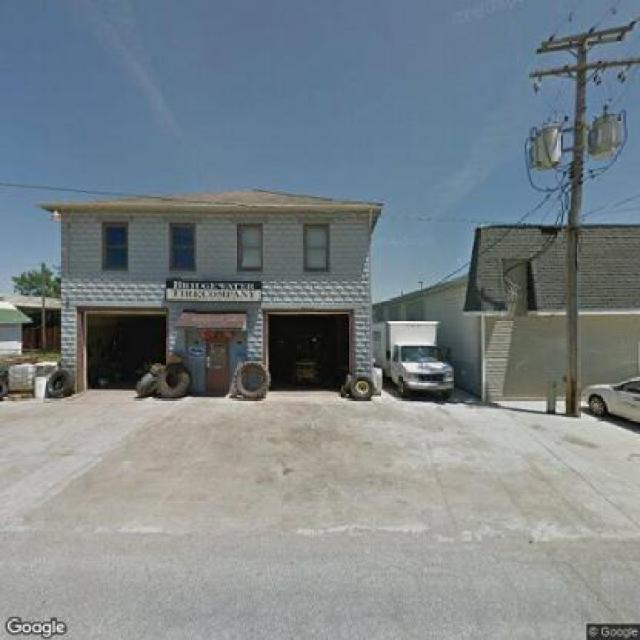pole: (527, 18, 635, 412)
